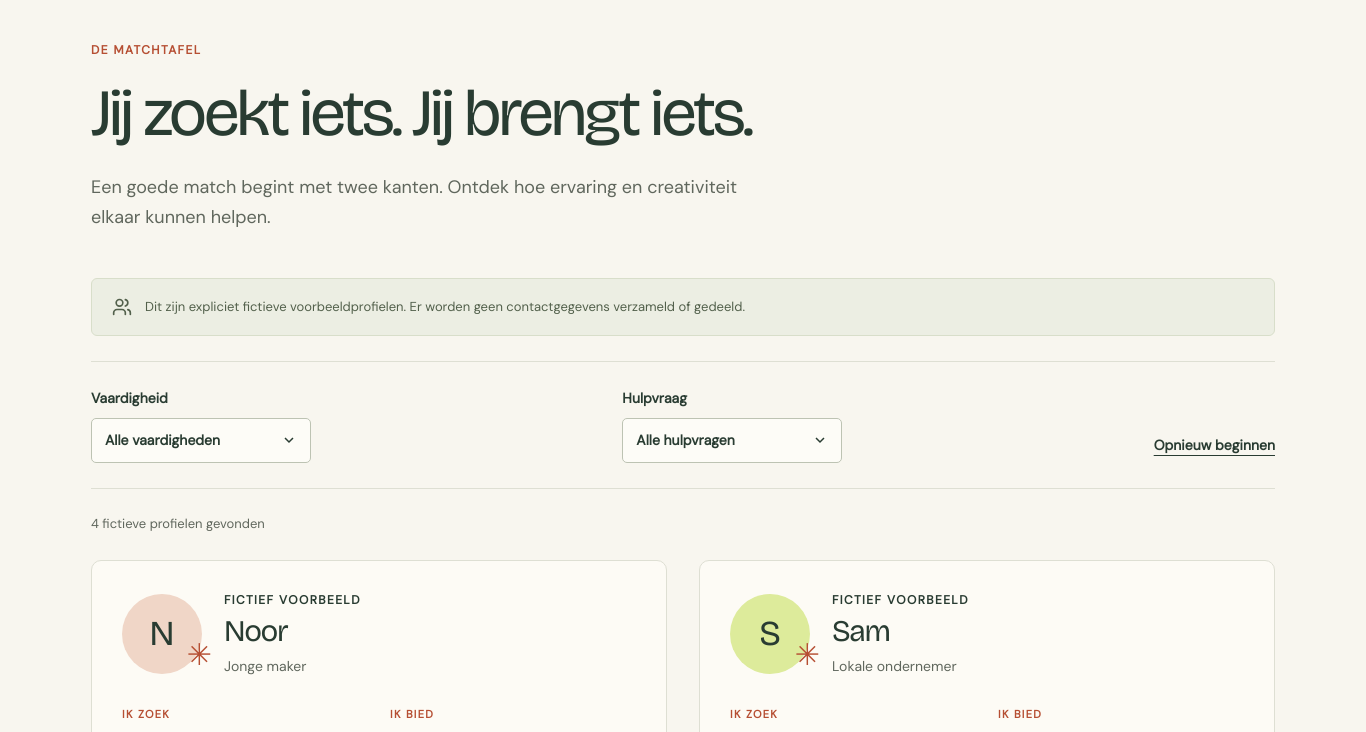
Test: profile filters, empty results, reset and reciprocal match
The width and height of the screenshot is (1366, 732).
Later steps or results of the test are not shown.
Select "Ontwerp" in the dropdown labelled "Vaardigheid" at (201, 440), box [91,418,311,463]
(page scrolled)
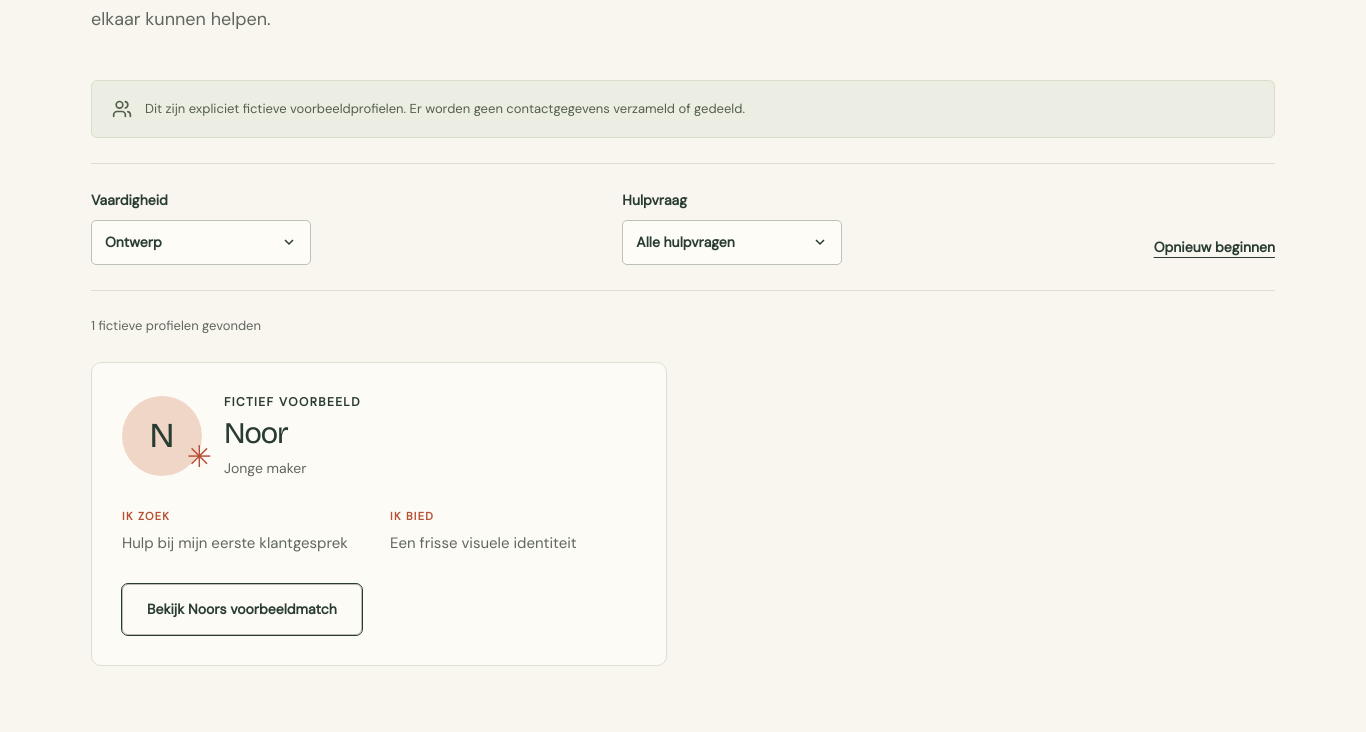
Click the button "Bekijk Noors voorbeeldmatch" at (242, 609), box [122,584,362,635]
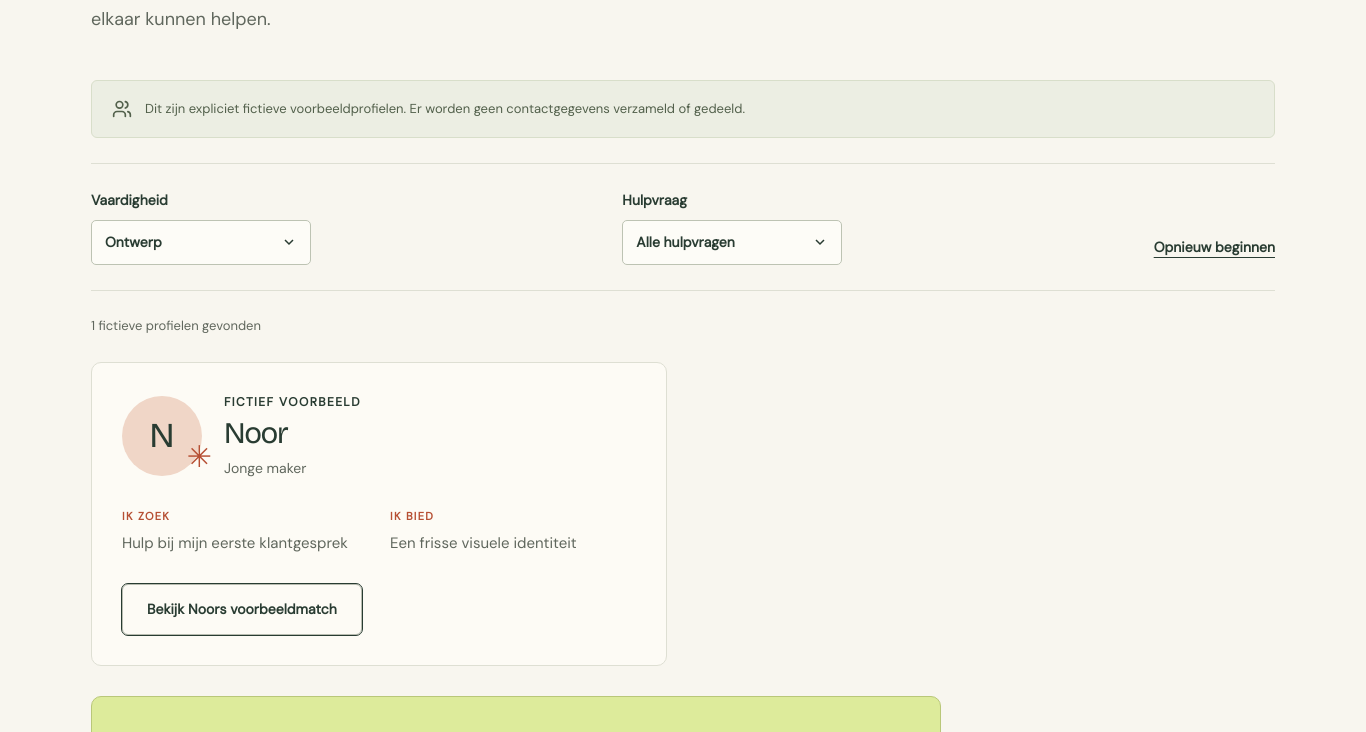
Select "Netwerk opbouwen" in the dropdown labelled "Hulpvraag" at (732, 242), box [622,220,842,265]
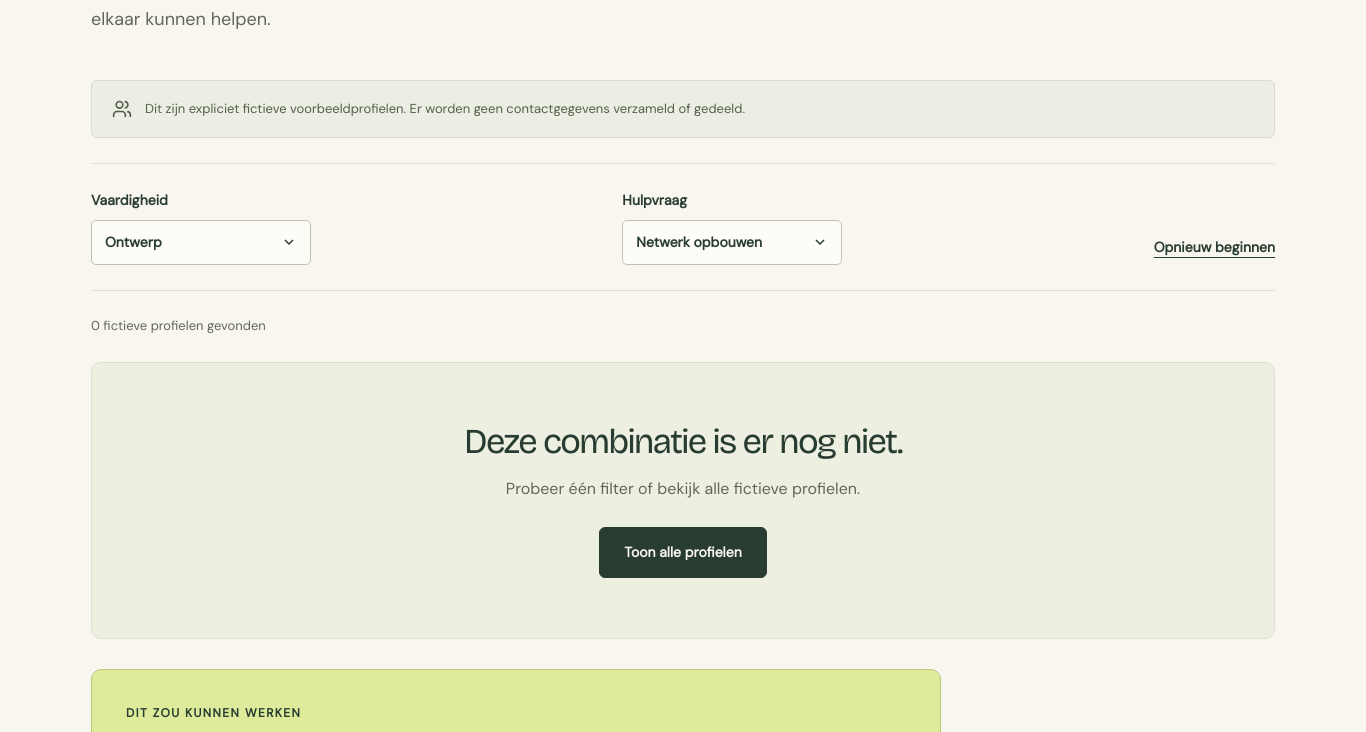
Now the heading "Deze combinatie is er nog niet." is shown, box [464,420,902,462]
